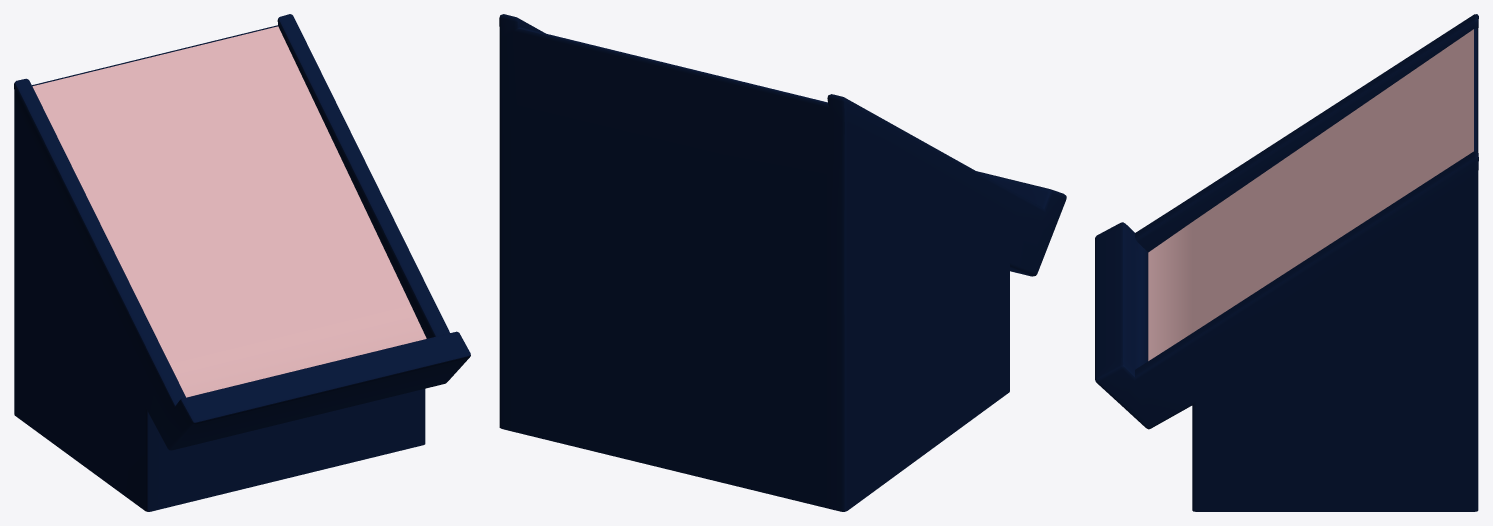
File: Fruit_Display Shelf.fbx
3 views of the same model, side by side, from view 1: azimuth 30°, elevation 25°; view 2: azimuth 150°, elevation 25°; view 3: azimuth 270°, elevation 25° (orthographic). The views are drawn at different scales.
Parts seen in each view (by area): view 1: pCube4; view 2: pCube4; view 3: pCube4.
Boxes of the visible parts, <box> form: pCube4: <box>14,14,470,511</box>; pCube4: <box>499,14,1066,511</box>; pCube4: <box>1095,14,1478,511</box>.
Bounding box in the file's own units: 1.68 × 1.91 × 1.88.
